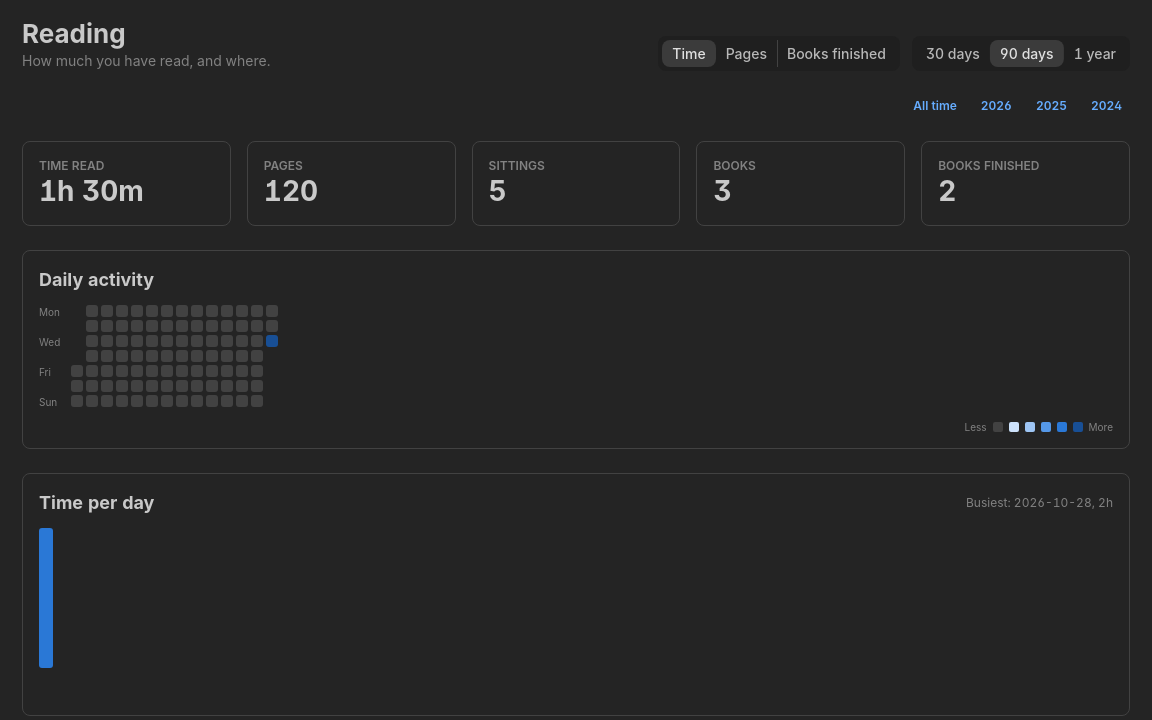
Test case: ReadingStats › keeps the calendar populated on the one-year range
expect the heading "Daily activity" is shown: met, box x1=39 y1=267 x2=154 y2=293
Click the text "1 year". click: (1095, 53)
box: x1=1074 y1=45 x2=1116 y2=62
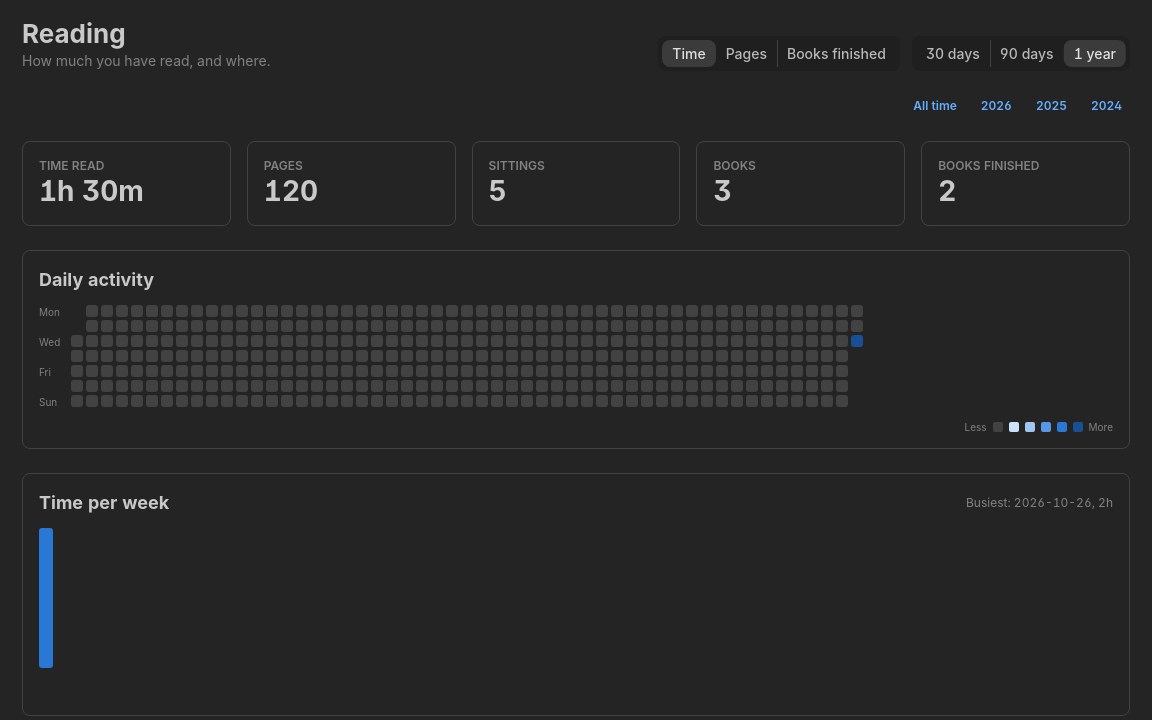
expect the heading "Time per week" is shown: met, box x1=39 y1=490 x2=169 y2=516
